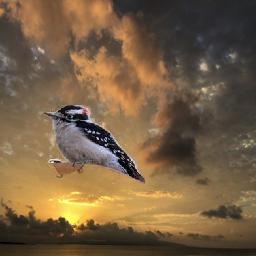Woodpecker: (43, 106, 145, 185)
